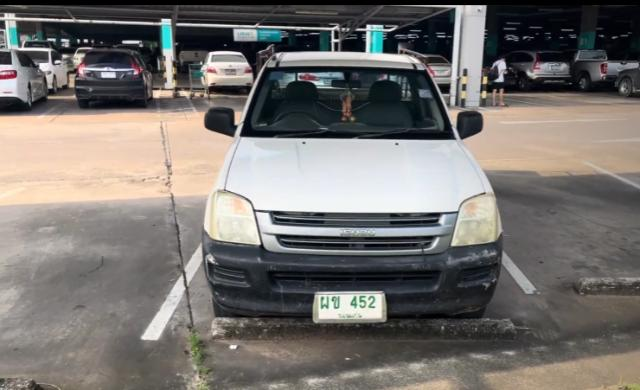pickup-truck: (197, 49, 502, 327)
